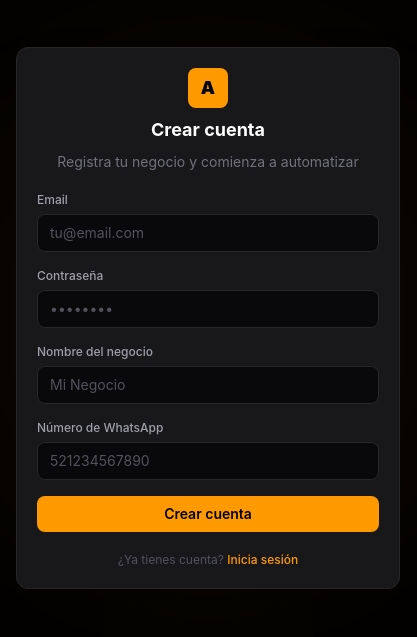
it: RegisterPage › shows validation errors
Click the button "Crear cuenta": (208, 514) 37,496 -> 379,532
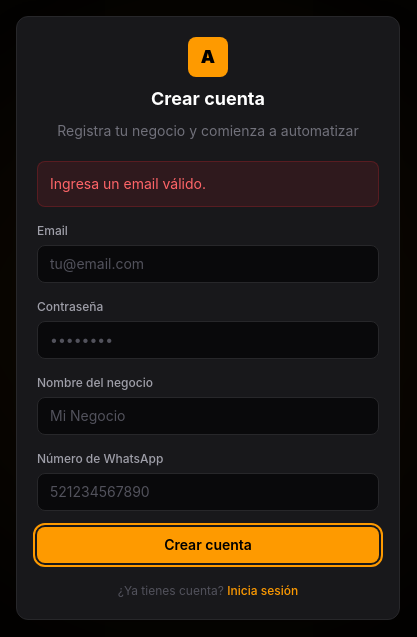
Now the text "Ingresa un email válido." is shown, box 50,175 -> 206,192
